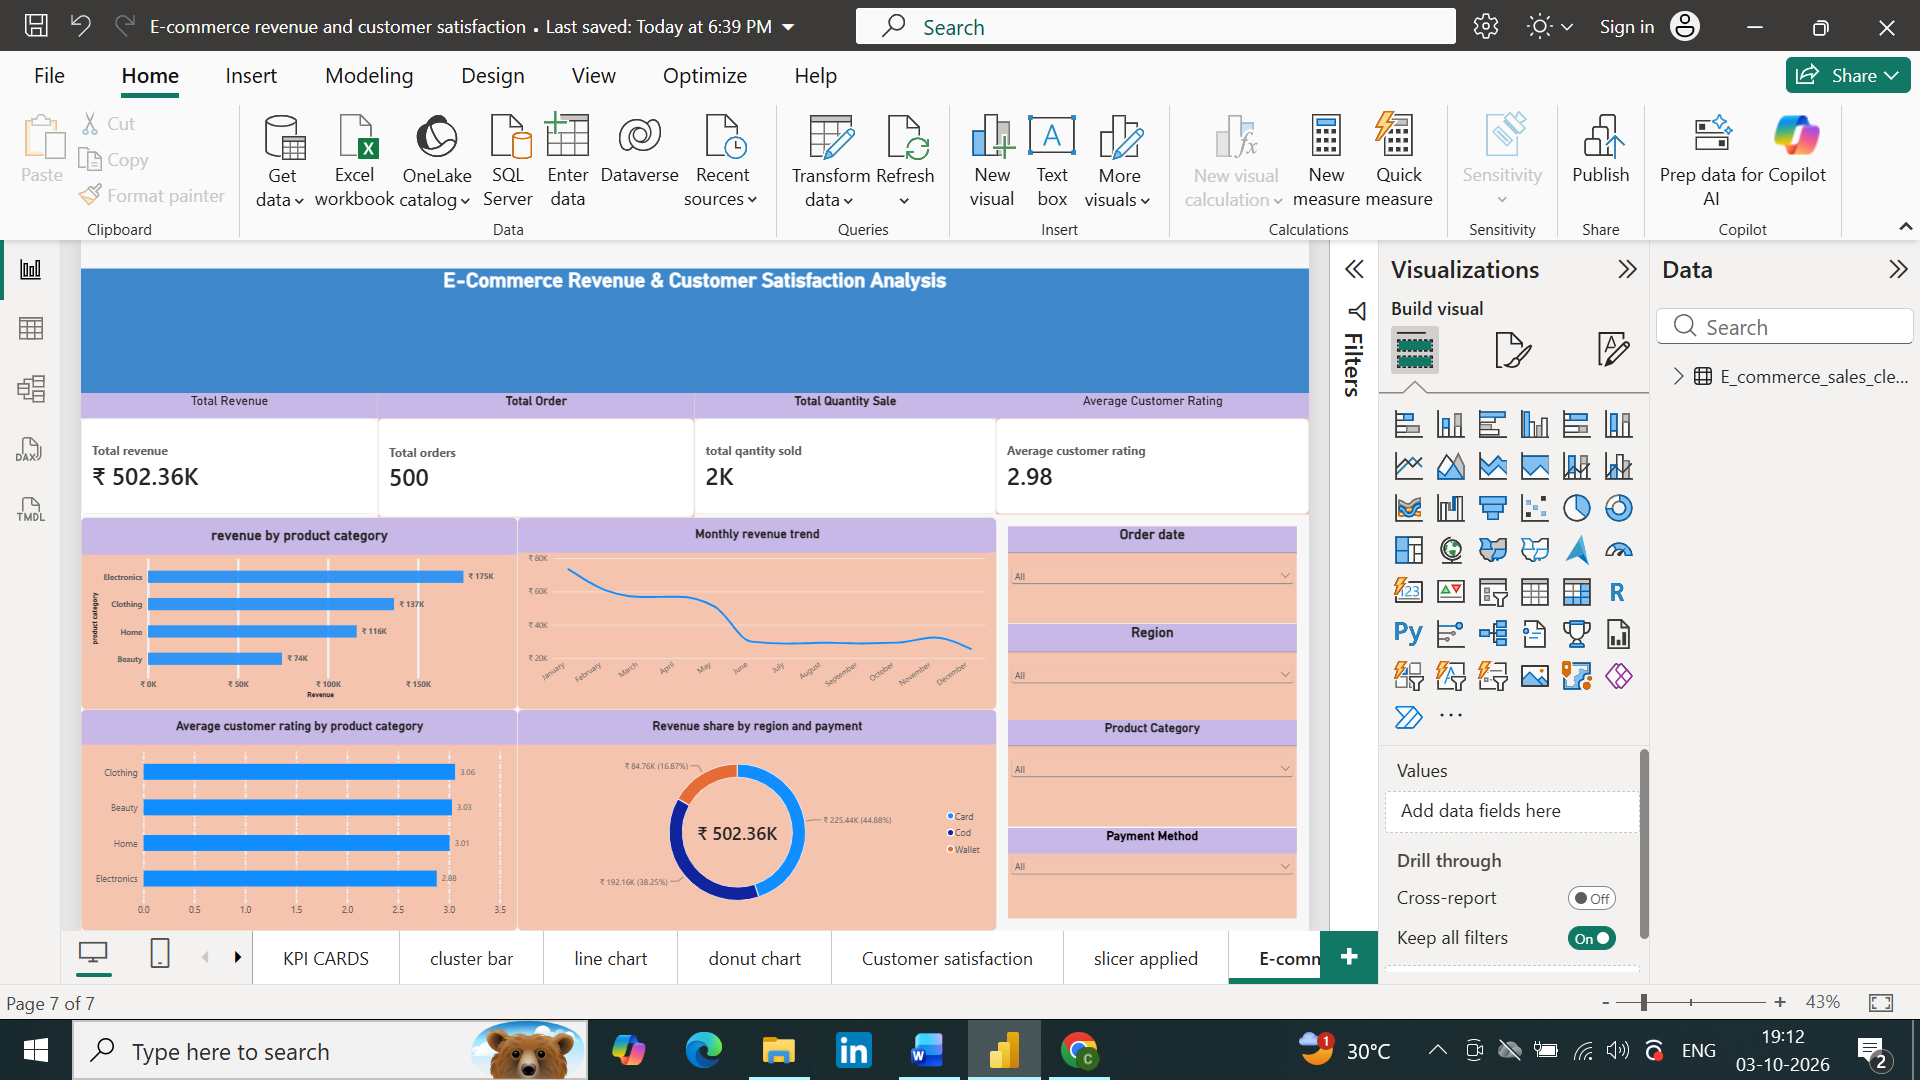

What the dashboard file says about the page in this screenshot:
{"tool":"powerbi","page":{"name":"E-commerce Dashboard","canvas":[1920,1080],"ordinal":6},"visuals":[{"type":"textbox","title":"E-Commerce Revenue & Customer Satisfaction Analysis","box":[0,44.5,1919.1,195.6],"z":0},{"type":"cardVisual","title":"Total Revenue","fields":{"Data":["E_commerce_sales_cleaned _data.Total revenue"]},"box":[0,238.5,464.1,189.7],"z":1},{"type":"cardVisual","title":"Total Order","fields":{"Data":["E_commerce_sales_cleaned _data.Total orders"]},"box":[464.1,238.5,494.9,194.9],"z":2},{"type":"cardVisual","title":"Total Quantity Sale","fields":{"Data":["E_commerce_sales_cleaned _data.total qantity sold"]},"box":[959,238.5,471.8,189.7],"z":3},{"type":"cardVisual","title":"Average Customer Rating","fields":{"Data":["E_commerce_sales_cleaned _data.Average customer rating"]},"box":[1430.8,238.5,489.7,189.7],"z":4},{"type":"clusteredBarChart","title":" revenue by product category","fields":{"Category":["E_commerce_sales_cleaned _data.product category"],"Y":["Sum(E_commerce_sales_cleaned _data.revenue)"]},"box":[0,433.3,682.1,300],"z":5},{"type":"lineChart","title":" Monthly revenue trend","fields":{"Category":["E_commerce_sales_cleaned _data.order date.Variation.Date Hierarchy.Month"],"Y":["E_commerce_sales_cleaned _data.Total revenue"]},"box":[682.1,433.3,748.7,300],"z":6},{"type":"donutChart","title":"Revenue share by  region and  payment","fields":{"Category":["E_commerce_sales_cleaned _data.region","E_commerce_sales_cleaned _data.payment method"],"Y":["E_commerce_sales_cleaned _data.Total revenue"]},"box":[682.1,733.3,748.7,346.2],"z":7},{"type":"clusteredBarChart","title":"Average customer rating by product category","fields":{"Category":["E_commerce_sales_cleaned _data.product category"],"Y":["Avg(E_commerce_sales_cleaned _data.customer_rating)"]},"box":[0,733.3,682.1,346.2],"z":8},{"type":"slicer","title":"Order date","fields":{"Values":["E_commerce_sales_cleaned _data.order date"]},"box":[1448.7,448.7,451.3,151.3],"z":10},{"type":"slicer","title":"Region","fields":{"Values":["E_commerce_sales_cleaned _data.region"]},"box":[1448.7,600,451.3,151.3],"z":11},{"type":"slicer","title":"Product Category","fields":{"Values":["E_commerce_sales_cleaned _data.product category"]},"box":[1448.7,751.3,451.3,166.7],"z":12},{"type":"slicer","title":"Payment Method","fields":{"Values":["E_commerce_sales_cleaned _data.payment method"]},"box":[1448.7,917.9,451.3,141],"z":13}]}

Visuals, with their boxes on the page's 1920x1080 design canvas (x1, y1, x2, y2). These are canvas units, not pixel positions in the 1920x1080 screenshot, which may show the page scaled, cropped or inside an application window:
"E-Commerce Revenue & Customer Satisfaction Analysis" textbox: x1=0, y1=44, x2=1919, y2=240
"Total Revenue" cardVisual: x1=0, y1=238, x2=464, y2=428
"Total Order" cardVisual: x1=464, y1=238, x2=959, y2=433
"Total Quantity Sale" cardVisual: x1=959, y1=238, x2=1431, y2=428
"Average Customer Rating" cardVisual: x1=1431, y1=238, x2=1920, y2=428
" revenue by product category" clusteredBarChart: x1=0, y1=433, x2=682, y2=733
" Monthly revenue trend" lineChart: x1=682, y1=433, x2=1431, y2=733
"Revenue share by  region and  payment" donutChart: x1=682, y1=733, x2=1431, y2=1080
"Average customer rating by product category" clusteredBarChart: x1=0, y1=733, x2=682, y2=1080
"Order date" slicer: x1=1449, y1=449, x2=1900, y2=600
"Region" slicer: x1=1449, y1=600, x2=1900, y2=751
"Product Category" slicer: x1=1449, y1=751, x2=1900, y2=918
"Payment Method" slicer: x1=1449, y1=918, x2=1900, y2=1059
